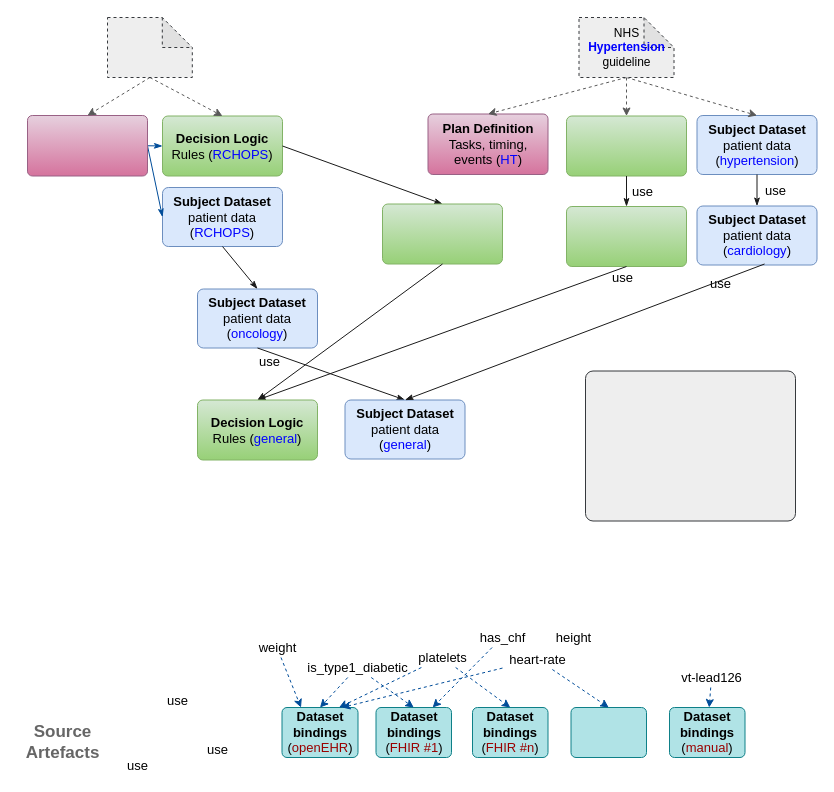
Image size: 834x792. Some labels were removed from this diagram. The shapes that lost their labels are listed below. From the top down, each one's centre as x and y in pixels, then its label:
the point at 149,47: NHS RCHOPS-21 guideline
the point at 87,145: Plan Definition Tasks, timing, events ( RCHOPS )
the point at 626,145: Decision Logic Rules ( hypertension )
the point at 442,233: Decision Logic Rules ( oncology )
the point at 626,236: Decision Logic Rules ( cardiology )
the point at 690,445: Guideline 125
the point at 608,732: Dataset bindings ( devices )
